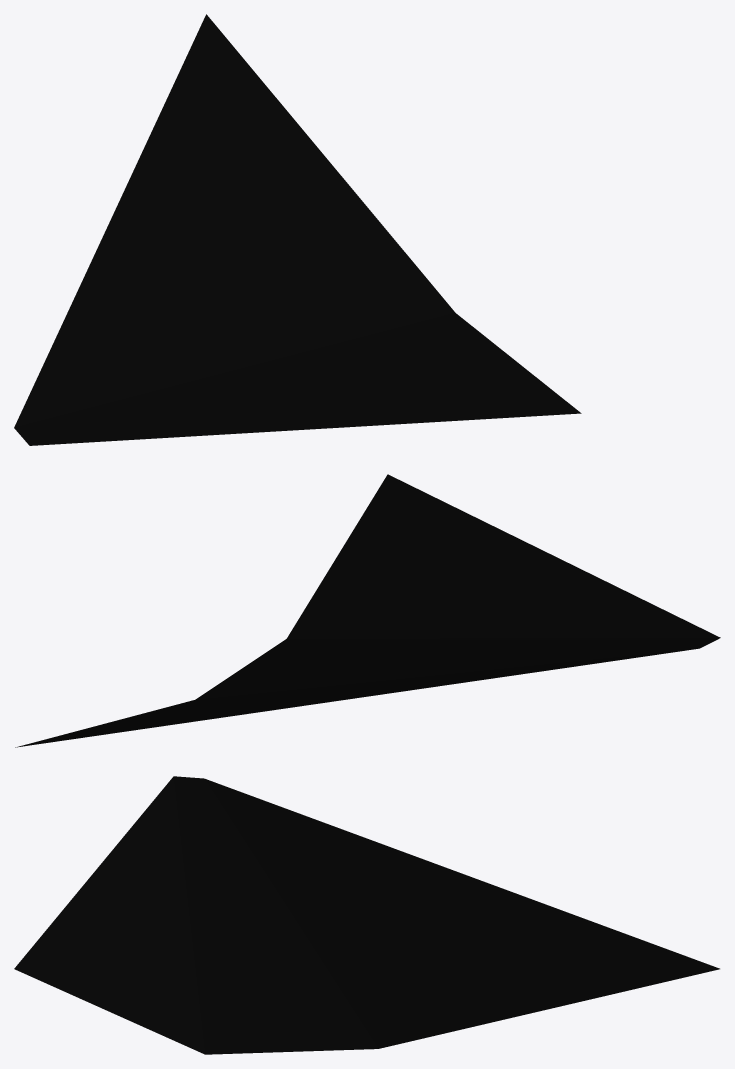
The picture shows the model from 3 angles, top to bottom: view 1: azimuth 30°, elevation 25°; view 2: azimuth 150°, elevation 25°; view 3: azimuth 270°, elevation 25°; orthographic projection. The views are drawn at different scales.
Size of the model in its own units: 0.0965 by 0.02 by 0.1495.
Materials: 1 (1 with a texture image).
